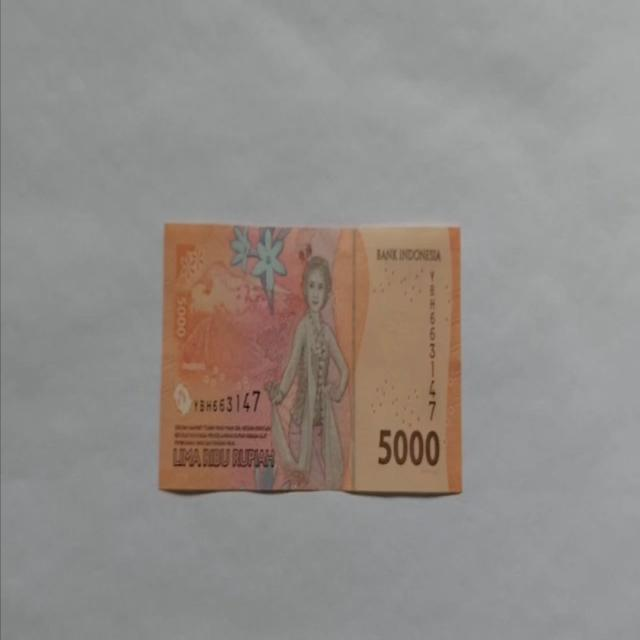lima ribu rupiah: (158, 220, 462, 496), (263, 254, 350, 491)
